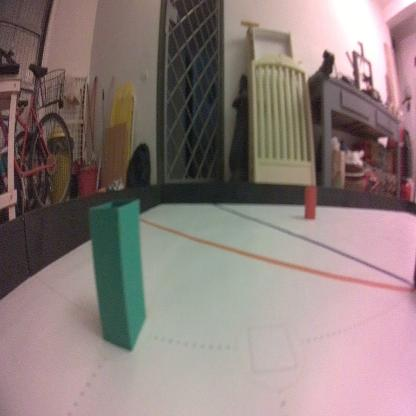green: (88, 193, 150, 350)
red: (304, 186, 318, 222)
